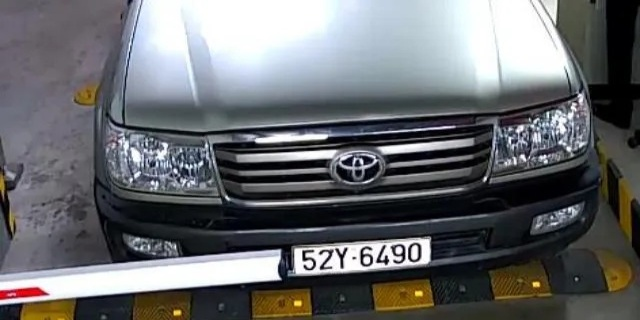bien_so: (291, 239, 430, 273)
